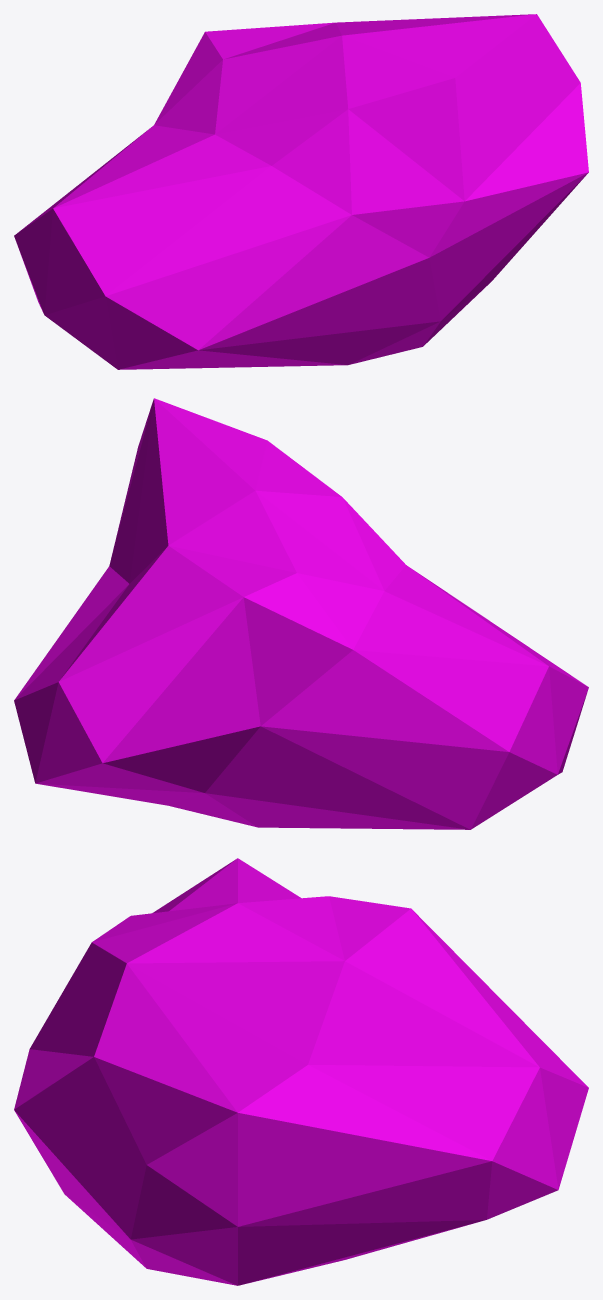
Rendered from asteroid_3.fbx.
3 renders of one model, top to bottom at view 1: azimuth 30°, elevation 25°; view 2: azimuth 150°, elevation 25°; view 3: azimuth 270°, elevation 25°, orthographic. The views are drawn at different scales.
Visible parts, largest first — view 1: Asteroid_3; view 2: Asteroid_3; view 3: Asteroid_3.
Boxes of the visible parts, x1,y1,x2,y2 form: Asteroid_3: (14,14,588,369); Asteroid_3: (14,398,588,829); Asteroid_3: (14,858,588,1285).
Size of the model in its own units: 24.57 by 16.66 by 22.08.
